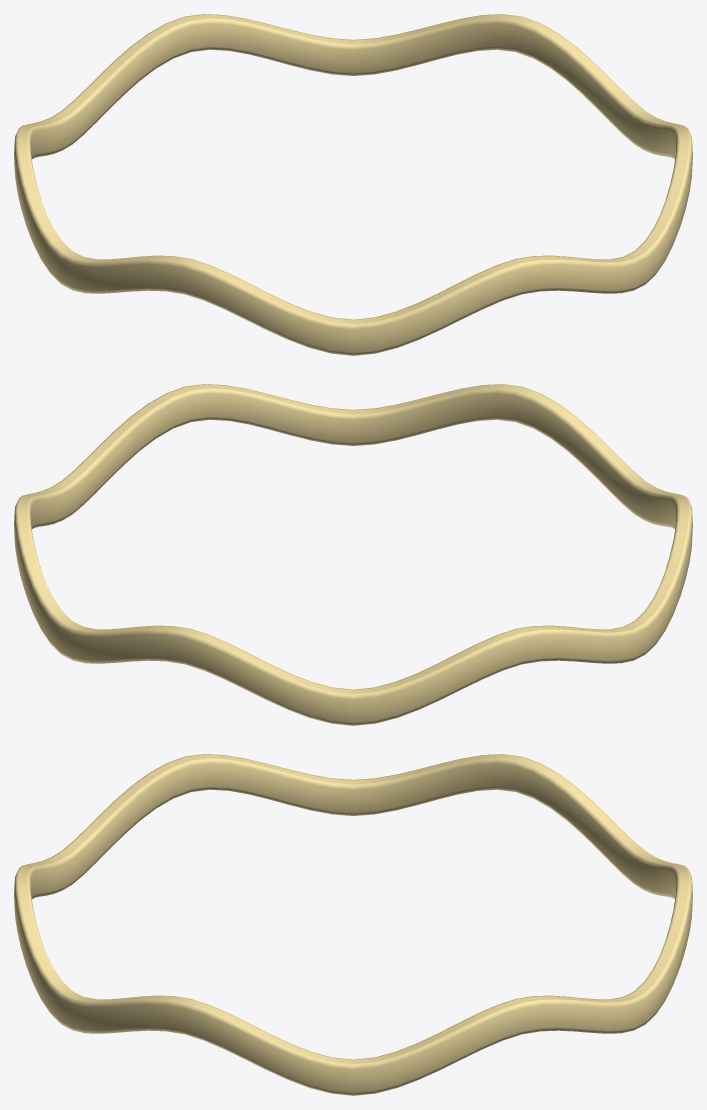
The model's file is 4-gold.gltf.
The picture shows the model from 3 angles, top to bottom: view 1: azimuth 30°, elevation 25°; view 2: azimuth 150°, elevation 25°; view 3: azimuth 270°, elevation 25°; orthographic projection.
Visible parts, largest first — view 1: Cylinder002; view 2: Cylinder002; view 3: Cylinder002.
Boxes of the visible parts, x1,y1,x2,y2 form: Cylinder002: [14, 14, 692, 355]; Cylinder002: [14, 384, 692, 725]; Cylinder002: [14, 754, 692, 1095].
Size of the model in its own units: 19.96 by 2.38 by 19.96.
